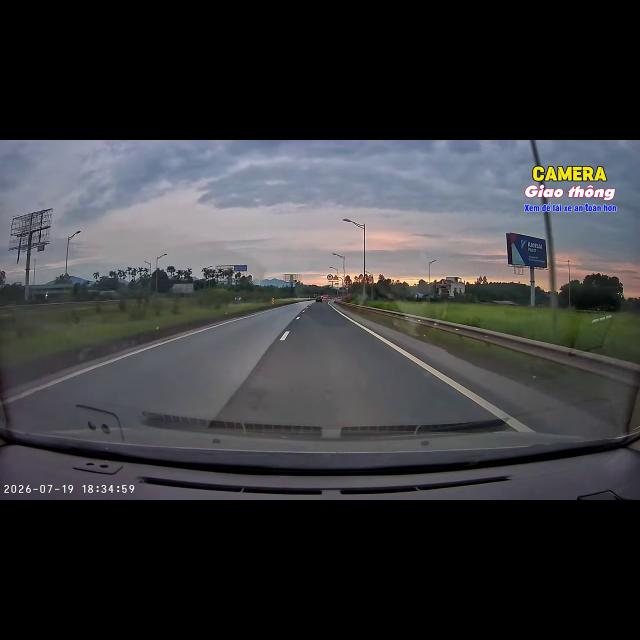car: (316, 296, 322, 301)
